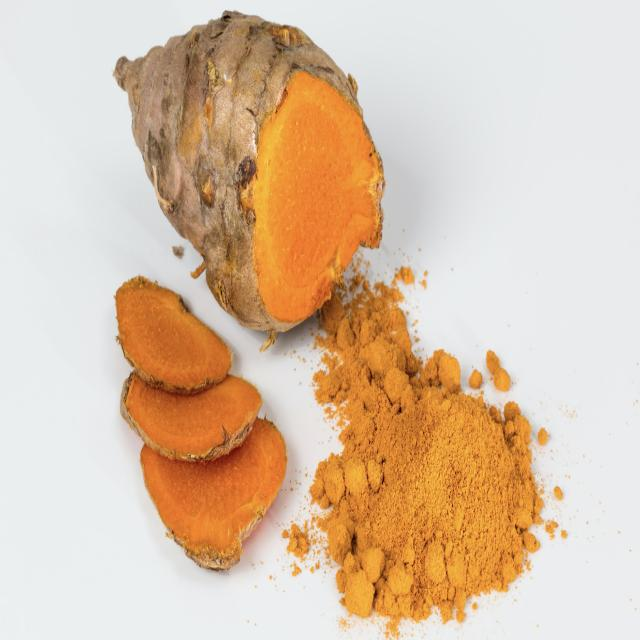turmeric: (107, 5, 396, 308), (138, 445, 283, 569), (117, 281, 231, 379), (116, 374, 268, 447)
